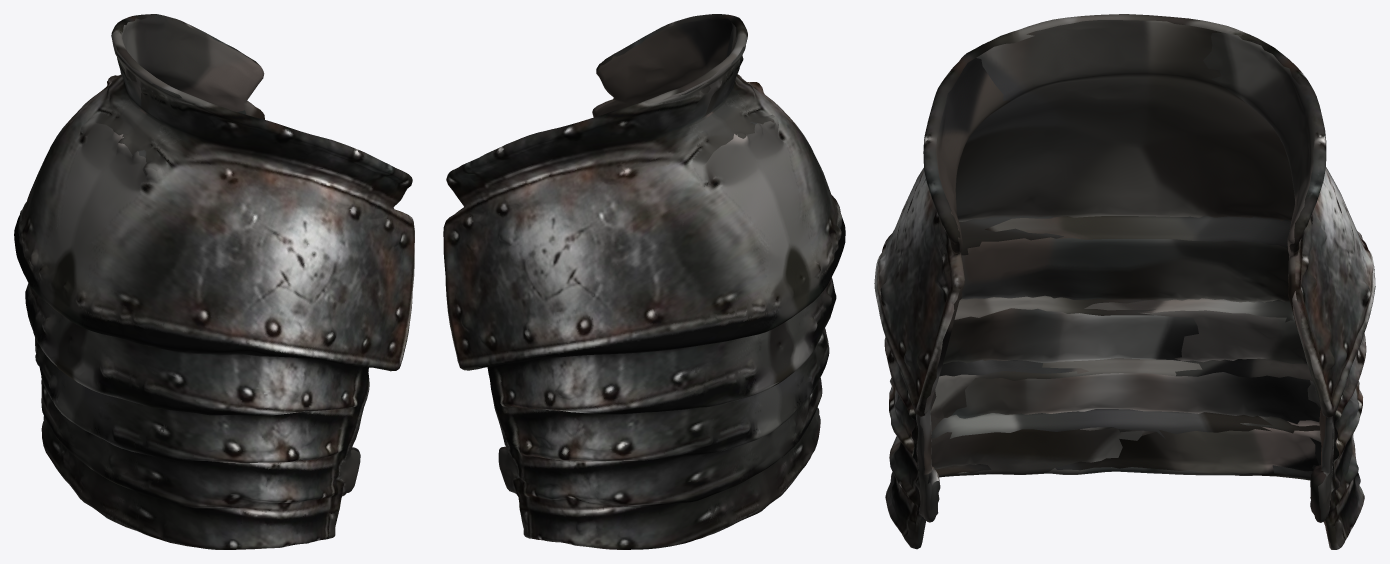
File: pyre_iron_pauldron.glb
The picture shows the model from 3 angles, left to right: view 1: azimuth 30°, elevation 25°; view 2: azimuth 150°, elevation 25°; view 3: azimuth 270°, elevation 25°; orthographic projection. The views are drawn at different scales.
Parts seen in each view (by area): view 1: geometry_0; view 2: geometry_0; view 3: geometry_0.
Part boxes in pixels (left/top/right/bottom): geometry_0: left=14, top=14, right=414, bottom=549; geometry_0: left=443, top=14, right=845, bottom=549; geometry_0: left=874, top=14, right=1375, bottom=549.
Size of the model in its own units: 0.2366 by 0.34 by 0.3191.
Materials: 1 (1 with a texture image).
